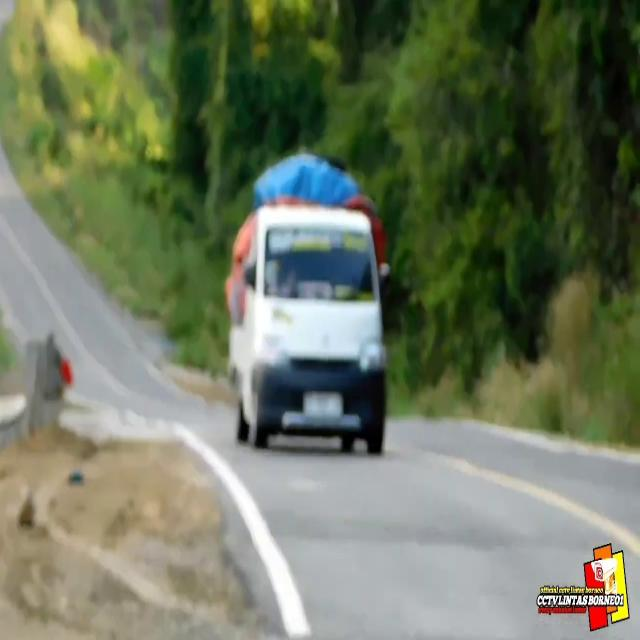Golongan IVB: (226, 205, 392, 458)
